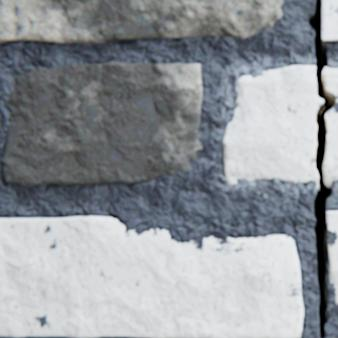brick: (0, 216, 303, 337), (4, 62, 202, 186), (0, 0, 283, 44), (326, 211, 337, 303), (321, 0, 337, 42)
broken_brick: (223, 66, 323, 184), (323, 68, 337, 185)
crack: (308, 0, 336, 337)
